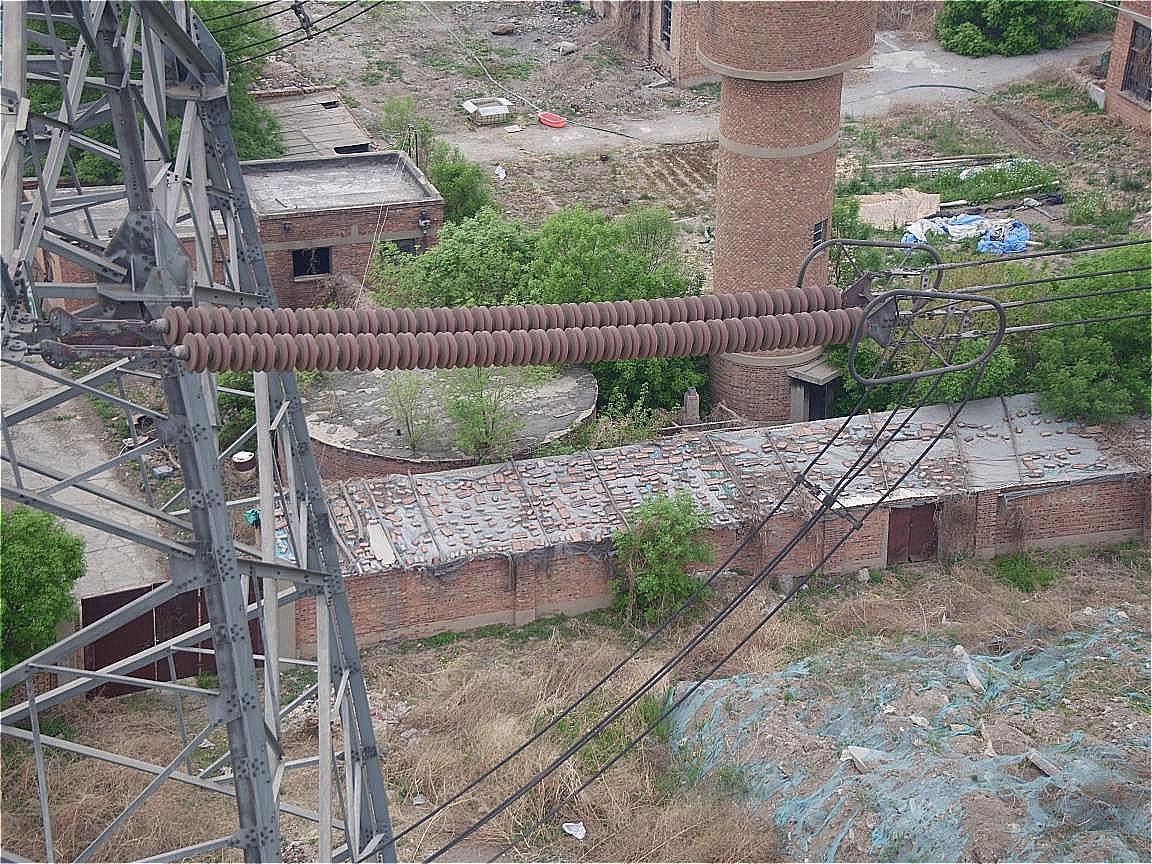insultor2: (122, 291, 904, 395)
